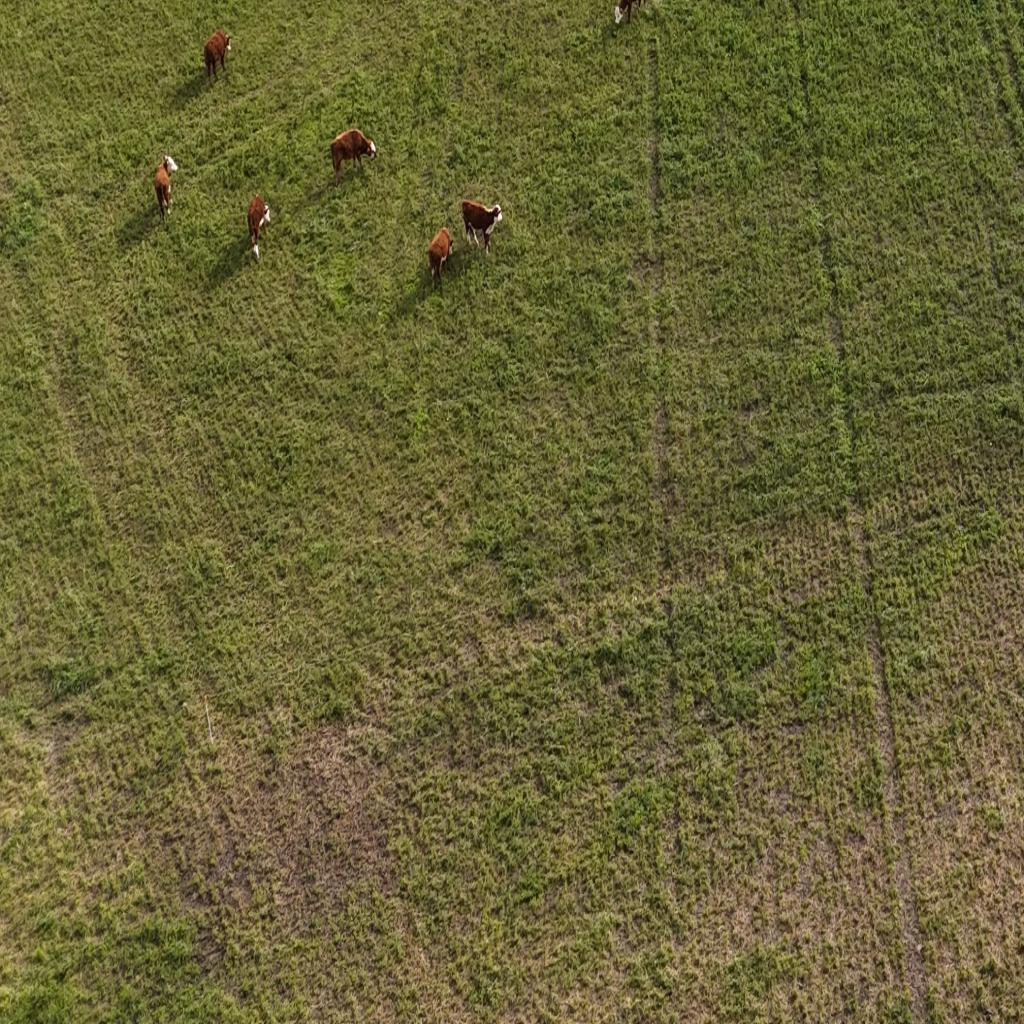cow: (330, 126, 379, 177), (461, 197, 503, 254), (152, 156, 182, 219), (428, 228, 457, 292), (204, 28, 232, 86), (248, 195, 271, 262), (609, 0, 648, 27)
